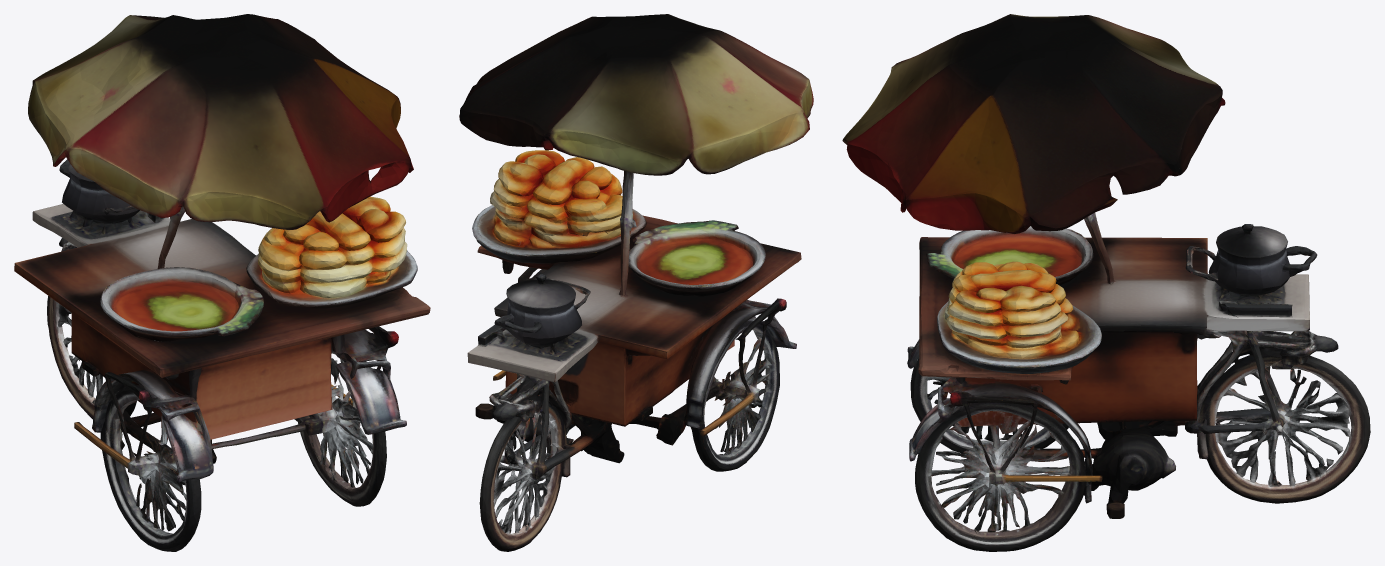
File: vada-pav-cart.glb
3 renders of one model, left to right at view 1: azimuth 30°, elevation 25°; view 2: azimuth 150°, elevation 25°; view 3: azimuth 270°, elevation 25°, orthographic. The views are drawn at different scales.
Visible parts, largest first — view 1: world; view 2: world; view 3: world.
Part boxes in pixels (x1,y1,x2,y2): world: (14, 14, 430, 551); world: (459, 14, 813, 551); world: (842, 14, 1370, 551).
Bounding box in the file's own units: 0.7033 × 0.8952 × 0.9293.
Materials: 1 (1 with a texture image).
